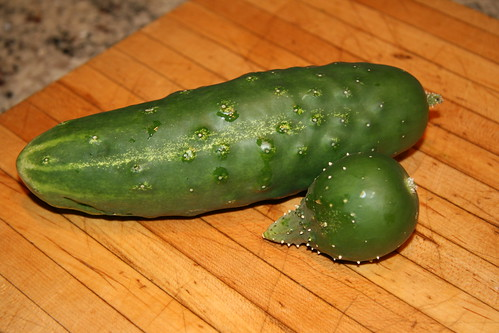cucumber: (15, 62, 429, 219)
